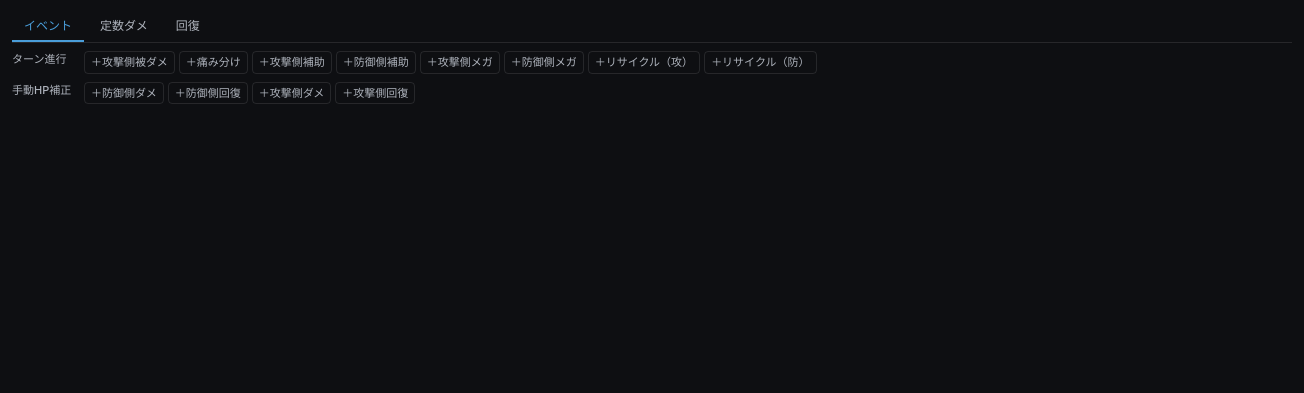
Test case: ProgressionTabs › 回復タブをクリックすると常時効果カタログ（割合 / きのみ / 固定 / 単発）に切り替わる
Click the tab "回復" at [188, 27], box left=164, top=12, right=212, bottom=42
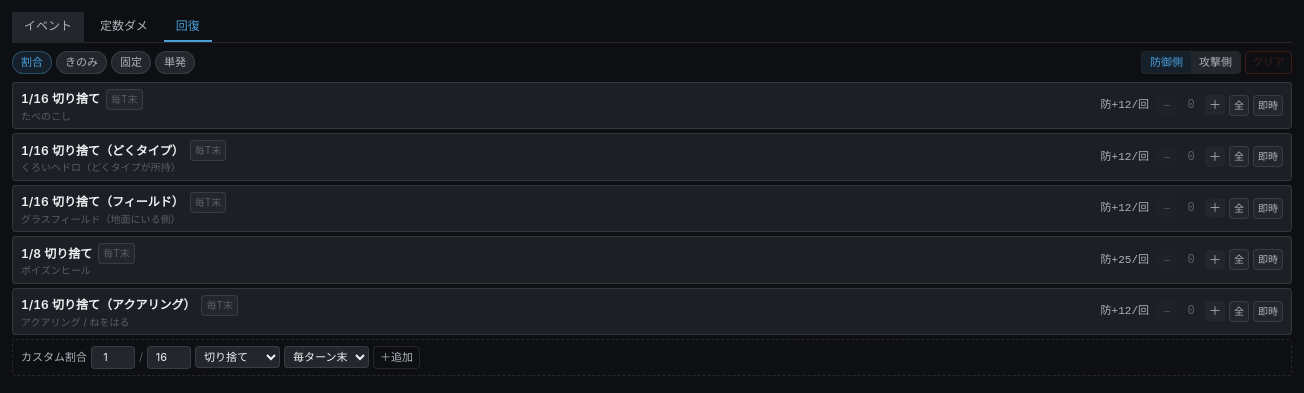
Check: the button "きのみ" is shown, box left=56, top=51, right=107, bottom=74
Check: the button "単発" is shown, box left=155, top=51, right=195, bottom=74
Check: the element with test id "passive-row-leftovers" is shown, box left=12, top=82, right=1292, bottom=129
